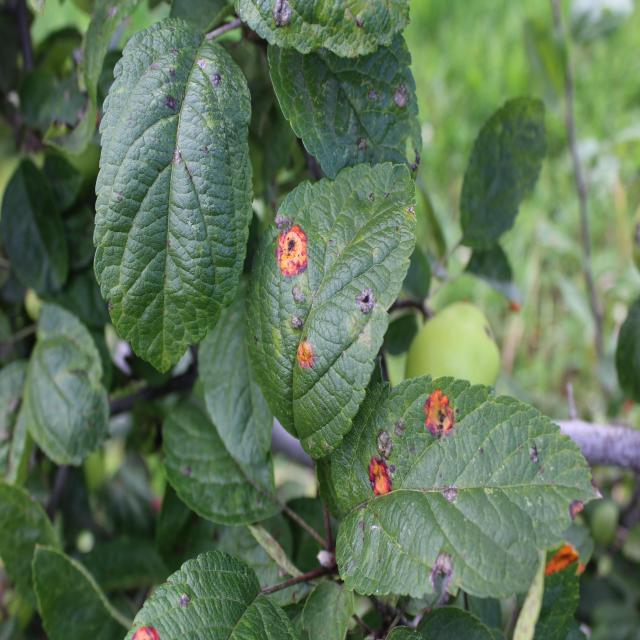Rust: (270, 198, 324, 304), (421, 379, 461, 464), (357, 437, 398, 514), (539, 532, 587, 588), (289, 322, 319, 380), (126, 626, 171, 640), (151, 614, 152, 620)
